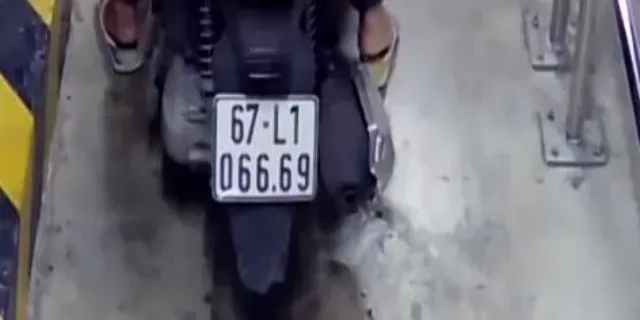bien_so: (215, 99, 316, 199)
